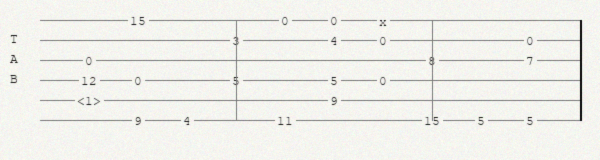0: (85, 54, 97, 66), (134, 74, 146, 86), (281, 14, 293, 26), (330, 14, 342, 26), (379, 74, 391, 86), (379, 34, 391, 46), (526, 34, 538, 46)
11: (277, 114, 297, 126)
12: (81, 74, 101, 86)
15: (130, 14, 150, 26), (424, 114, 444, 126)
3: (232, 34, 244, 46)
4: (183, 114, 195, 126), (330, 34, 342, 46)
5: (232, 74, 244, 86), (330, 74, 342, 86), (477, 114, 489, 126), (526, 114, 538, 126)
7: (526, 54, 538, 66)
8: (428, 54, 440, 66)
9: (134, 114, 146, 126), (330, 94, 342, 106)
harmonic: (77, 94, 105, 107)
x: (379, 15, 391, 25)
